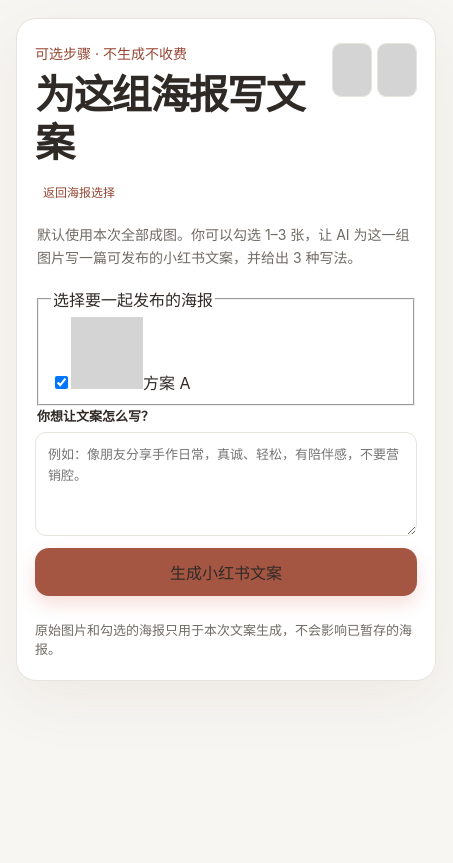
Test case: CopyScreen › sends the selected images only after explicit confirmation and renders the returned options
Type "像朋友分享，不要营销腔" into the text box labelled "你想让文案怎么写？". click: (226, 484)
box: [35,432,417,536]
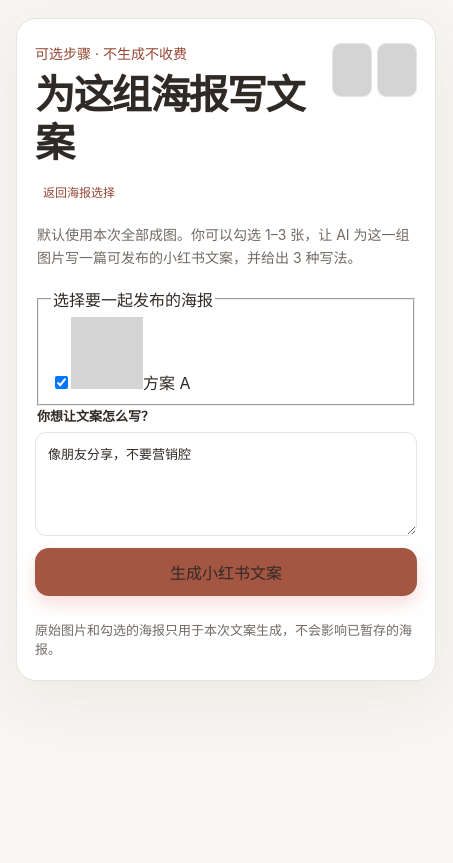
Click the button "生成小红书文案". click: (226, 572)
box: [35,548,417,596]
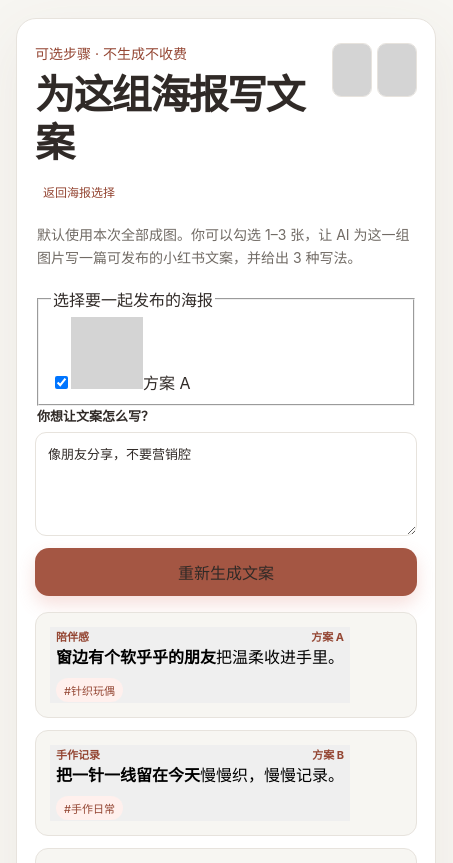
Expected: the text "窗边有个软乎乎的朋友" is shown, [56,647,216,667]
Click the button with aria-label "选择文案方案 B". click: (200, 783)
box: [50,745,350,821]
(page scrolled)
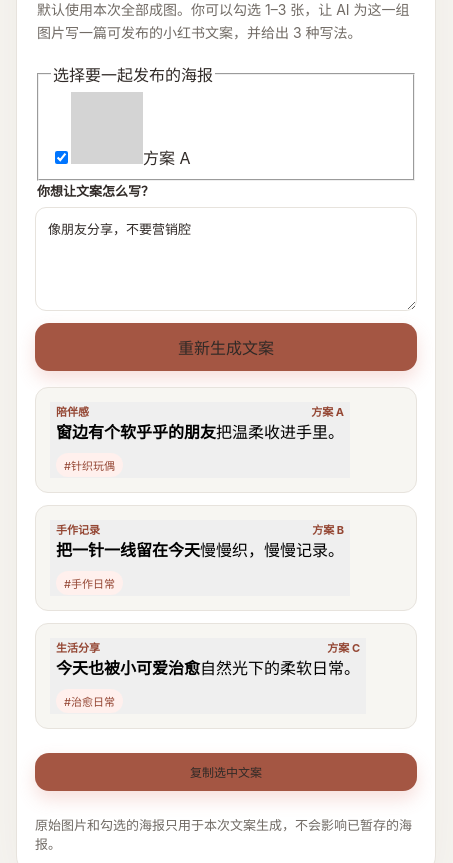
Expected: the button "复制选中文案" is enabled, [35,753,417,791]
